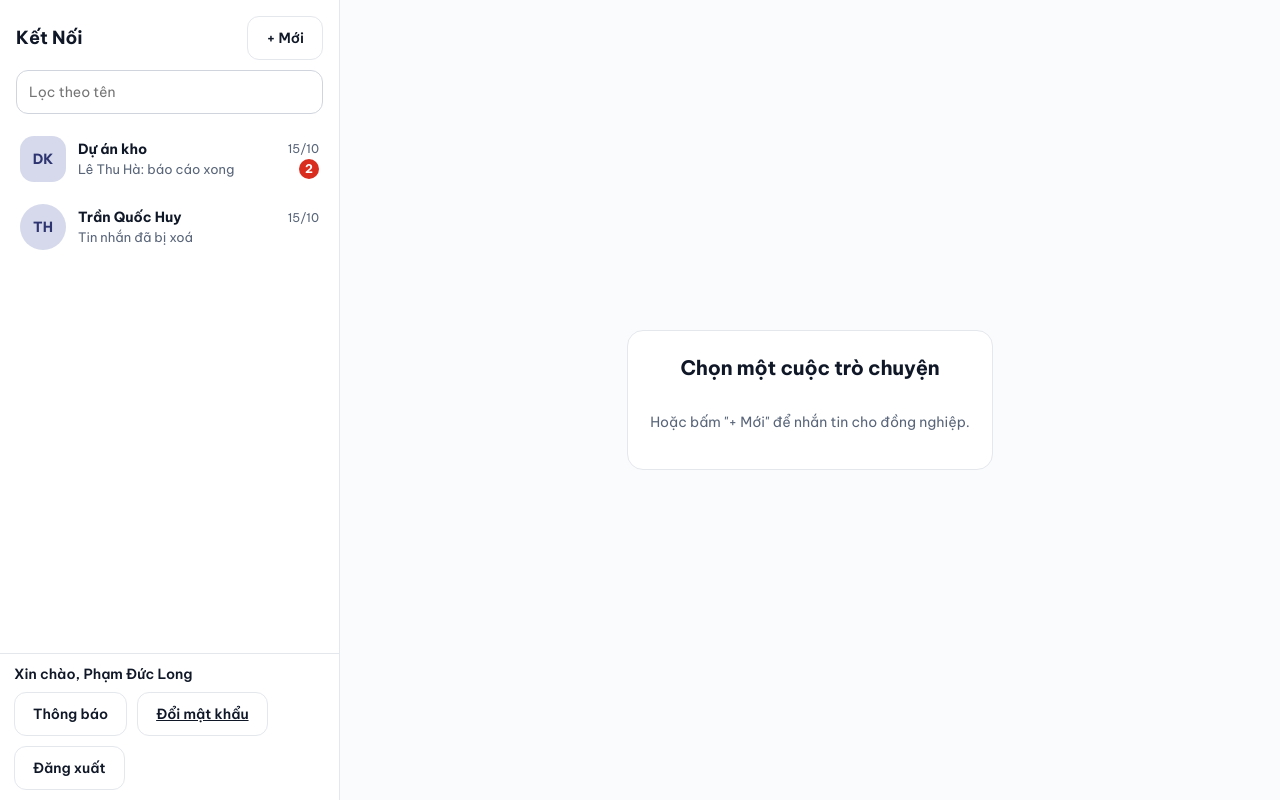
chat layout › closes the new-chat dialog with Escape
Click the button with aria-label "Cuộc trò chuyện mới" at (285, 38), box [247, 16, 323, 60]
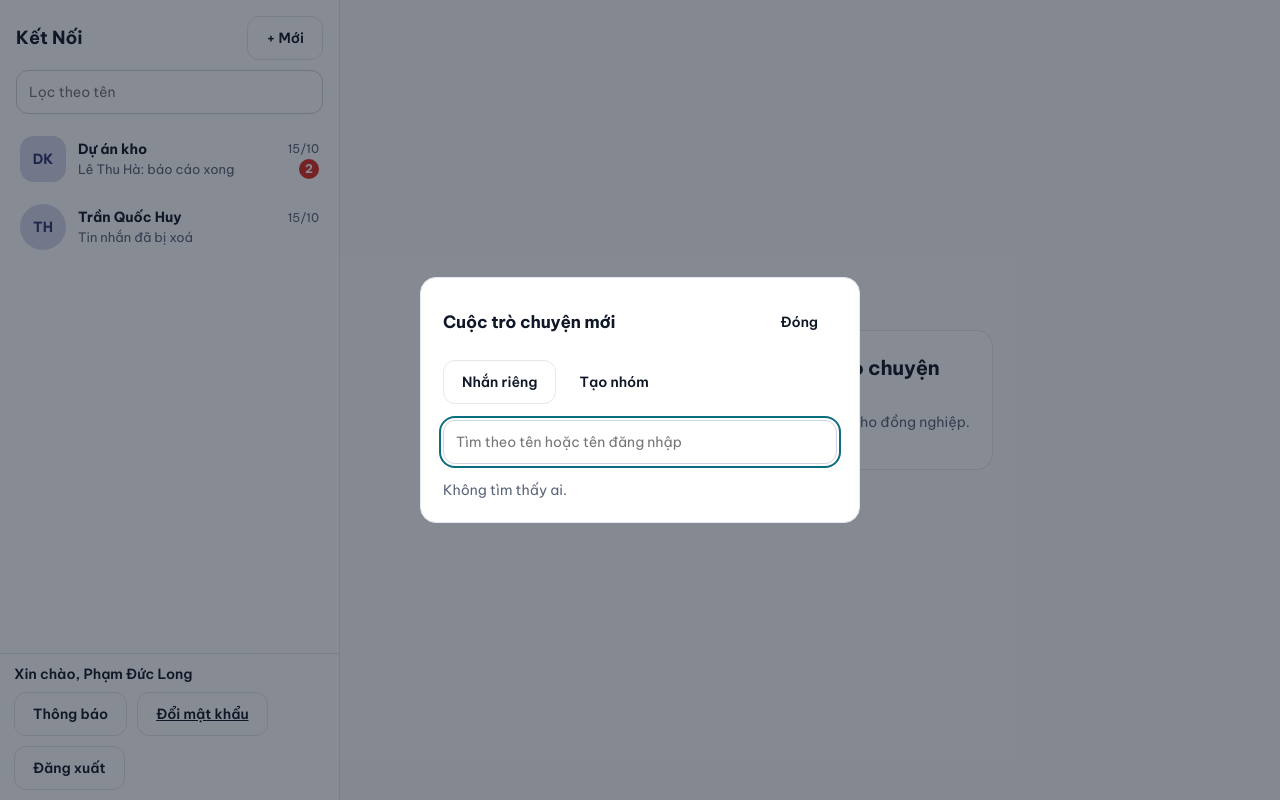
Check: the dialog is shown, box [420, 277, 860, 523]
Press Escape
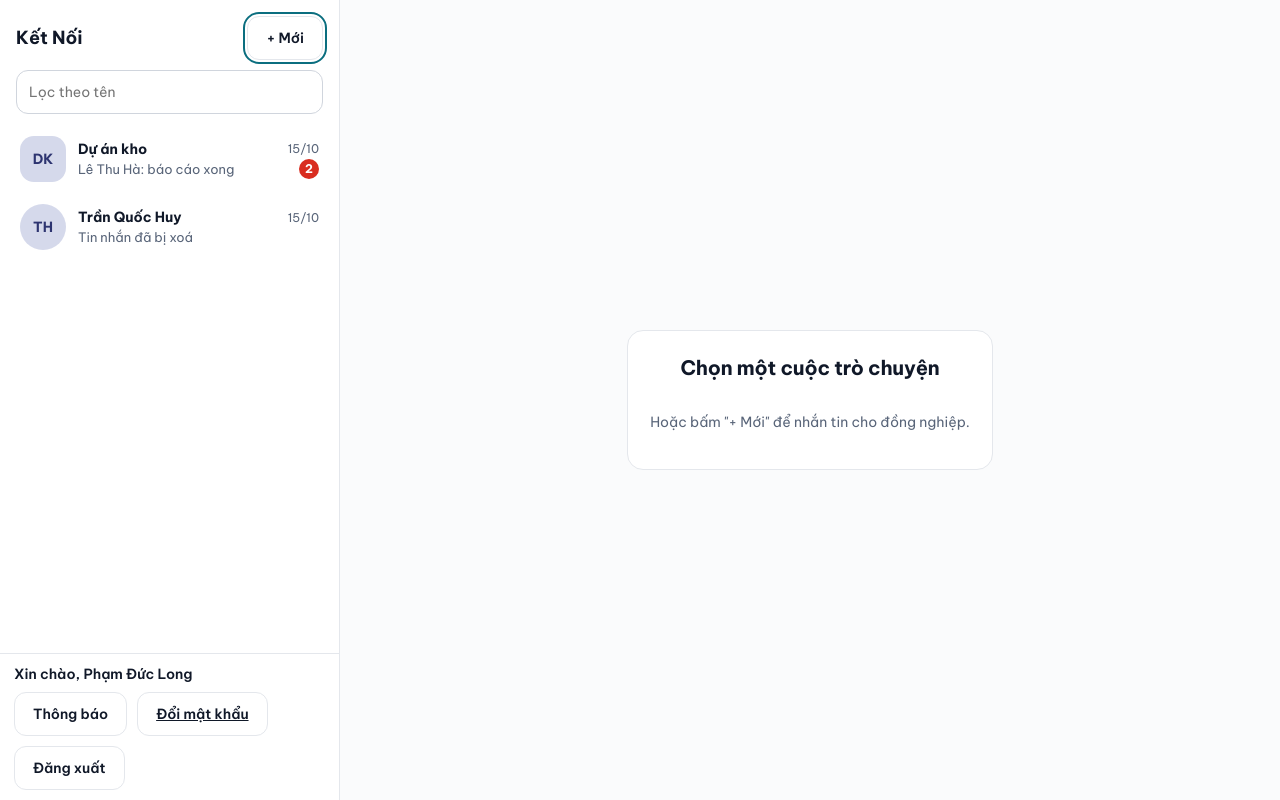
Check: the dialog is gone
